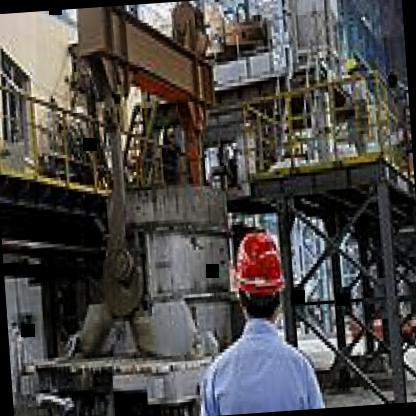helmet: (231, 228, 292, 323), (343, 52, 363, 75)
